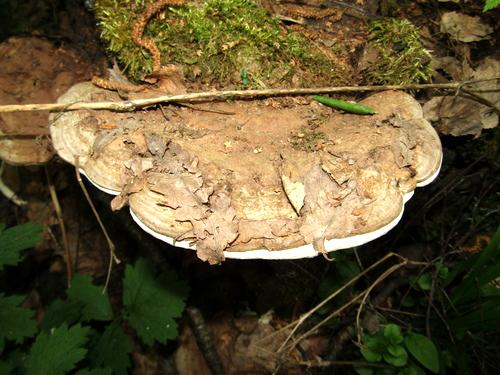Ganoderma - Fruit Body: (45, 75, 446, 266)
